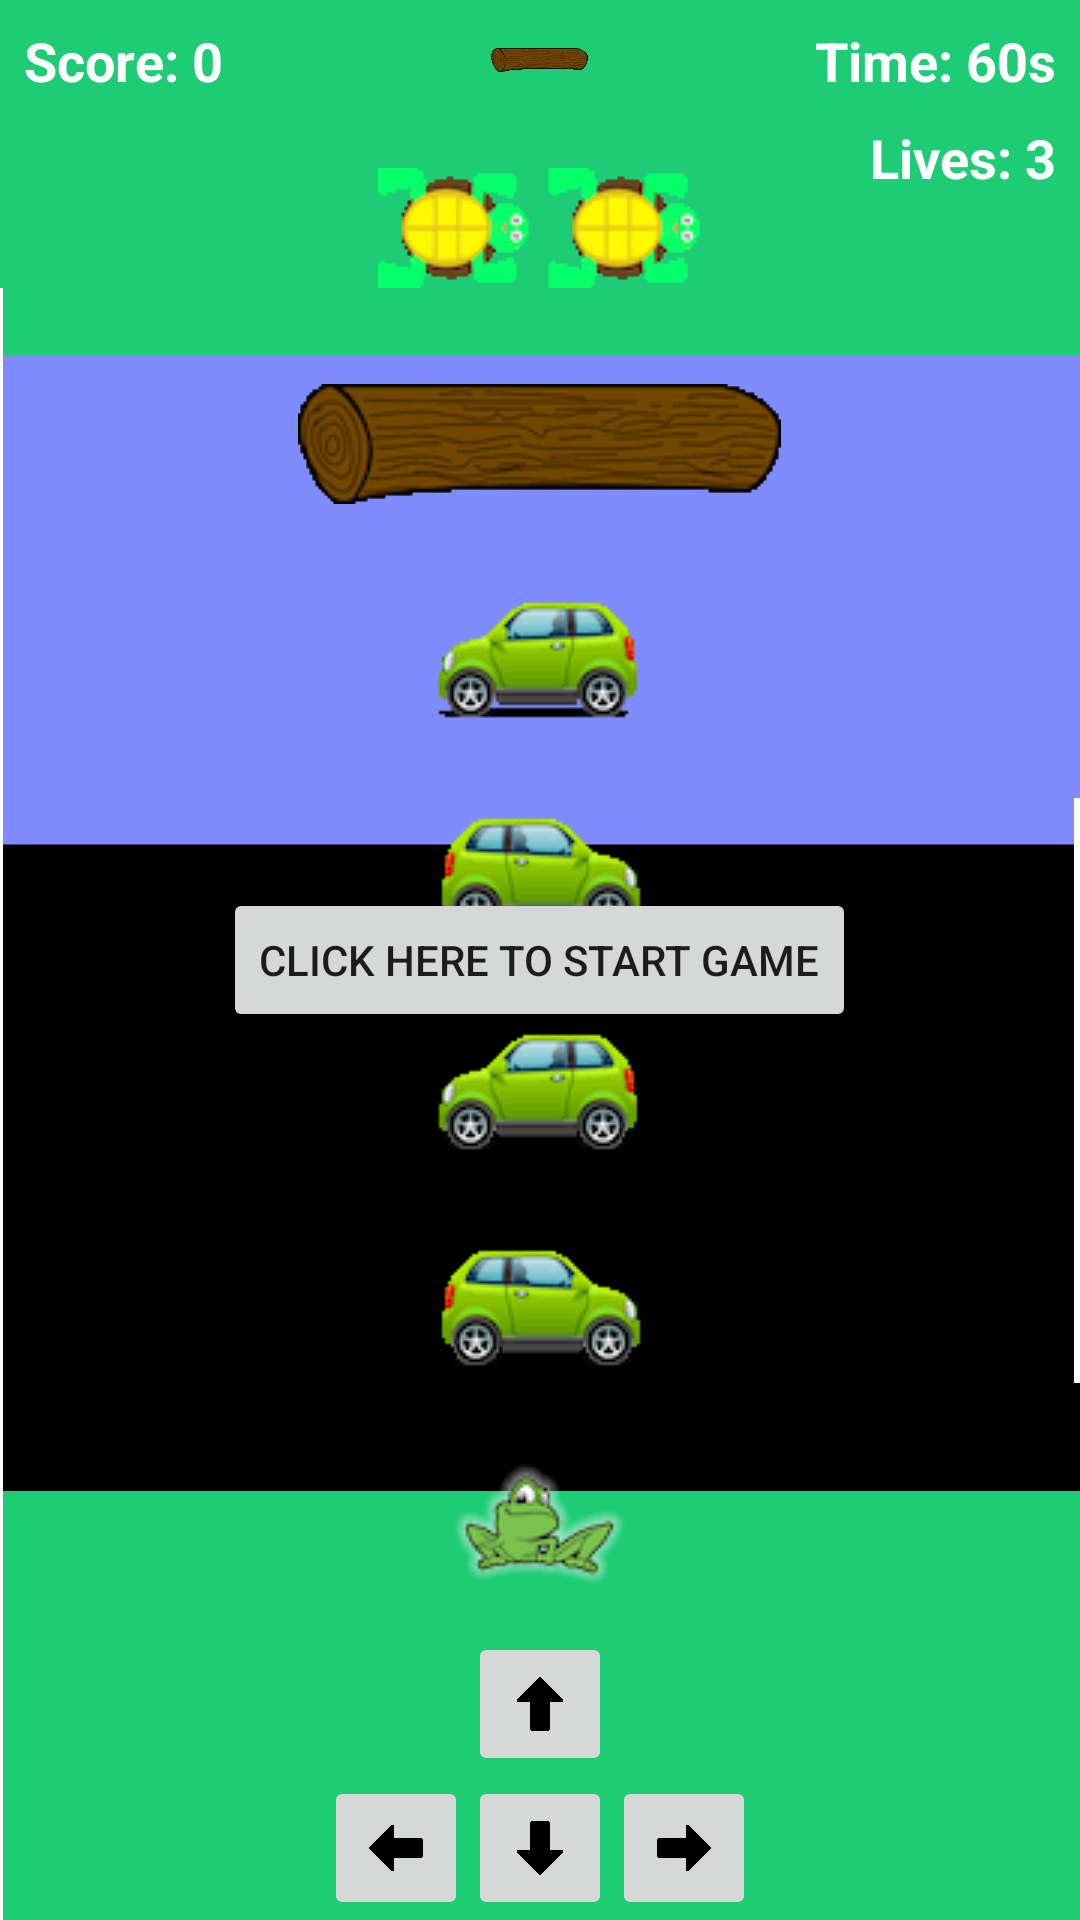

Icon bounding boxes for this 1080*1920 phone screenshot, format bbox(x1, y1, x2, y2):
arrowdown: bbox(480, 1794, 600, 1902)
arrowleft: bbox(336, 1794, 456, 1902)
arrowright: bbox(624, 1794, 744, 1902)
arrowup: bbox(480, 1650, 600, 1758)
frogger: bbox(454, 1464, 625, 1581)
rightcar: bbox(438, 602, 638, 718), bbox(438, 1034, 638, 1150)
